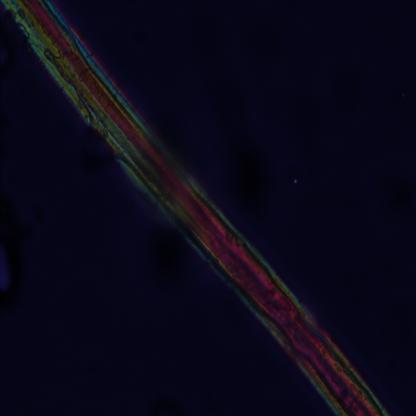Microfibre: (1, 0, 387, 414)
